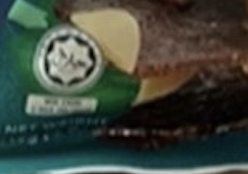halal: (52, 44, 87, 75)
